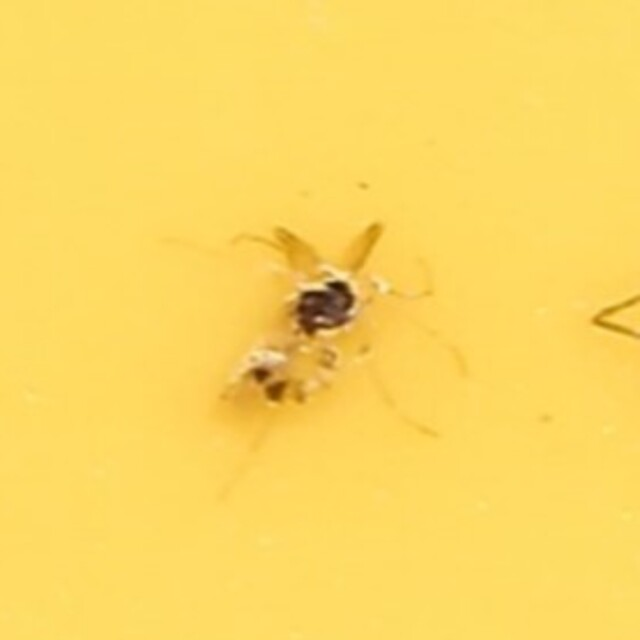Nematocera: (230, 226, 410, 414)
